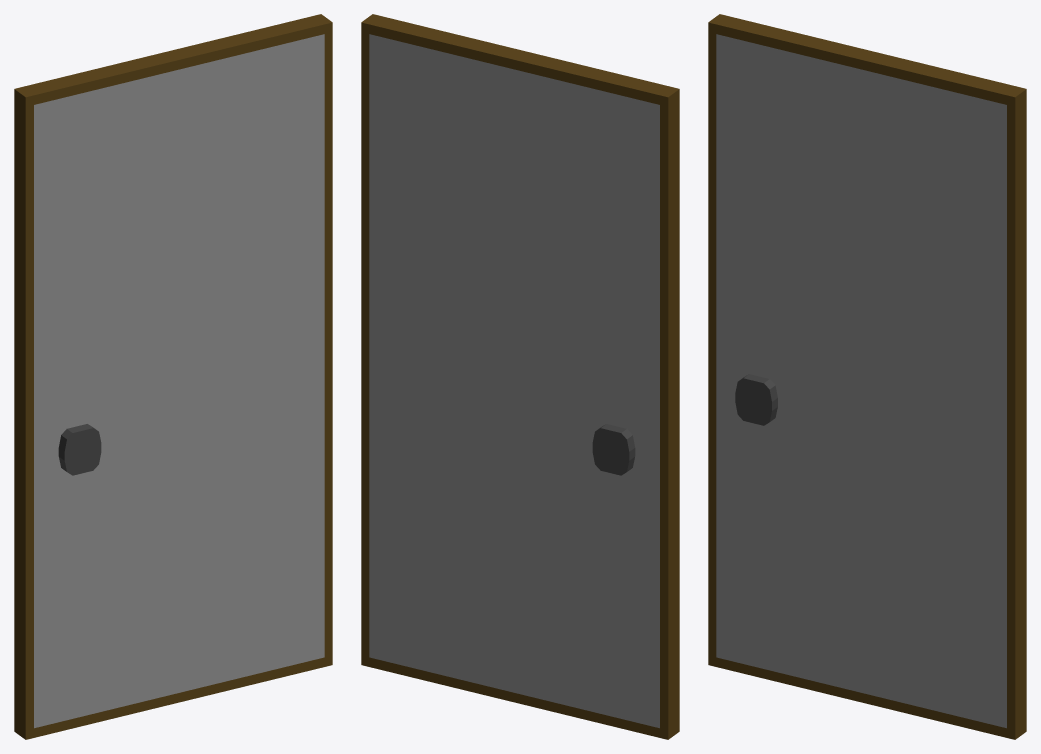
File: puerta.fbx
3 views of the same model, side by side, from view 1: azimuth 30°, elevation 25°; view 2: azimuth 150°, elevation 25°; view 3: azimuth 330°, elevation 25° (orthographic).
Parts seen in each view (by area): view 1: Cube; view 2: Cube; view 3: Cube.
Part boxes in pixels (box(x1,y1,x2,y2)): Cube: box(14, 14, 332, 739); Cube: box(361, 14, 679, 739); Cube: box(708, 14, 1026, 739).
Size of the model in its own units: 200 by 400 by 26.36.
